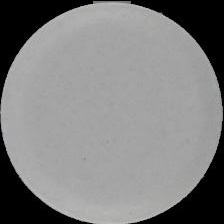76385-105: (0, 0, 224, 224)
